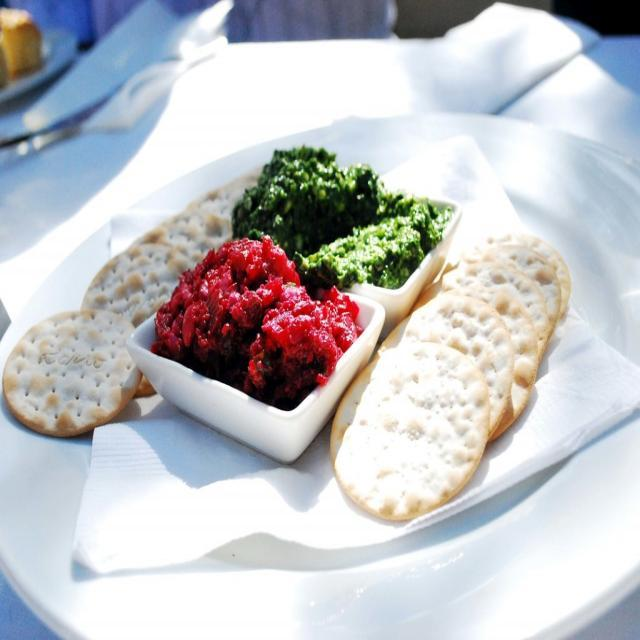Cracker: (336, 341, 494, 531), (392, 292, 510, 438), (84, 243, 198, 393), (5, 312, 141, 434)
